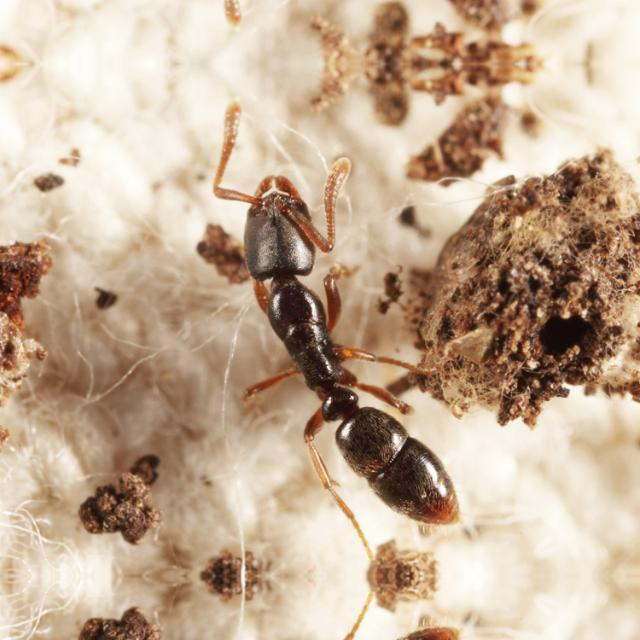Ponera: (197, 108, 511, 548)
